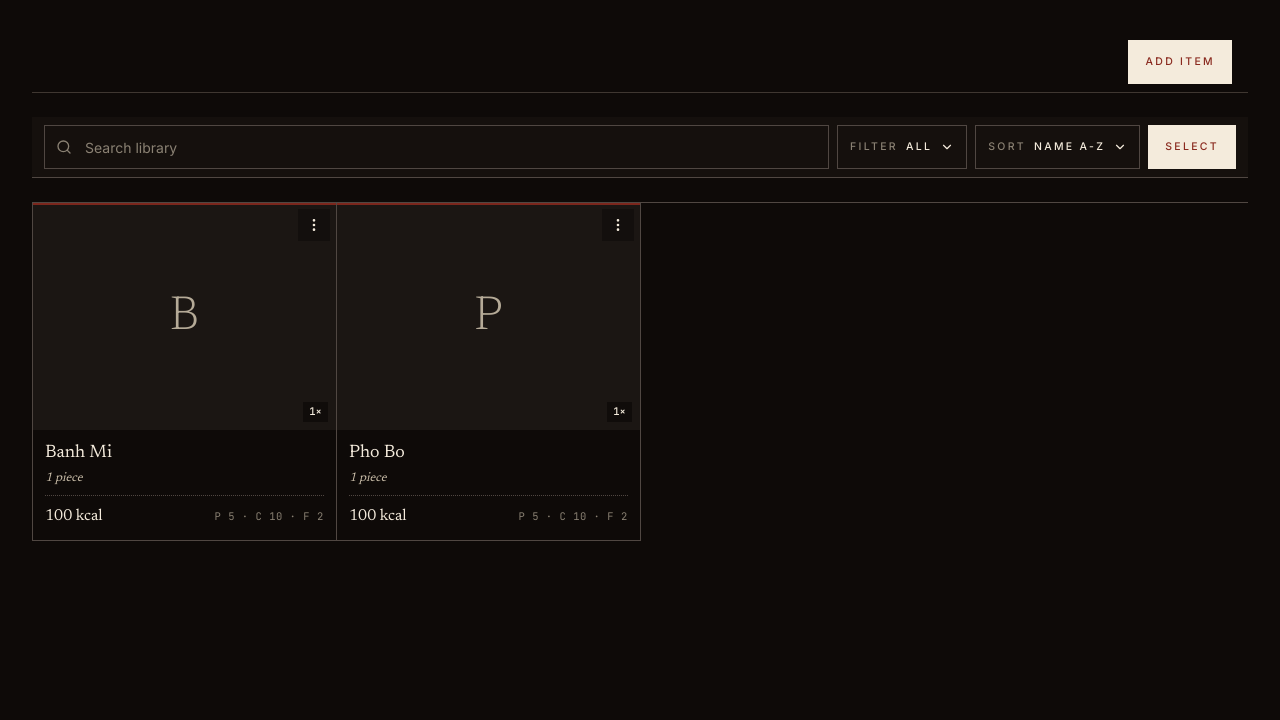
Test: <LibraryClient /> quick-action menu wiring (Bug 3) › bulk-log actions expose busy state while selected items are being logged
The width and height of the screenshot is (1280, 720).
Click the button with test id "library-select-toggle".
click(1192, 147)  # box [1148, 125, 1236, 169]
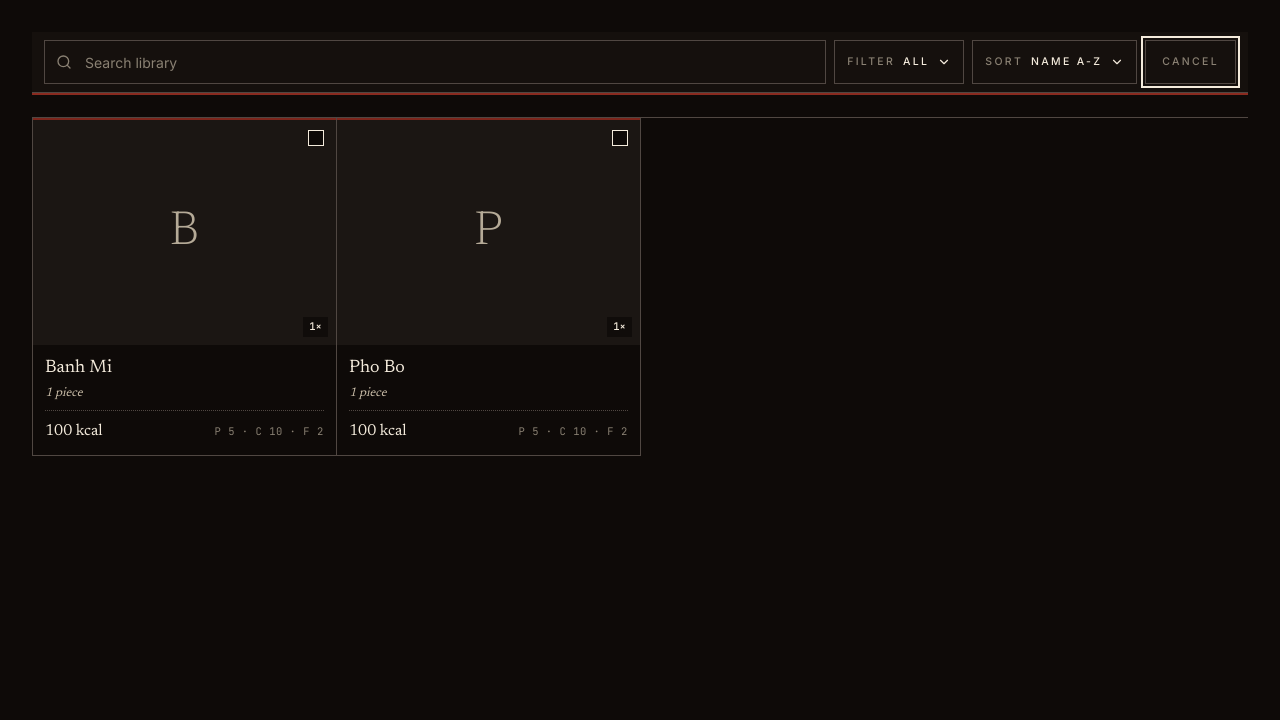
Click the checkbox with test id "library-card-alpha".
click(488, 287)  # box [337, 118, 640, 455]
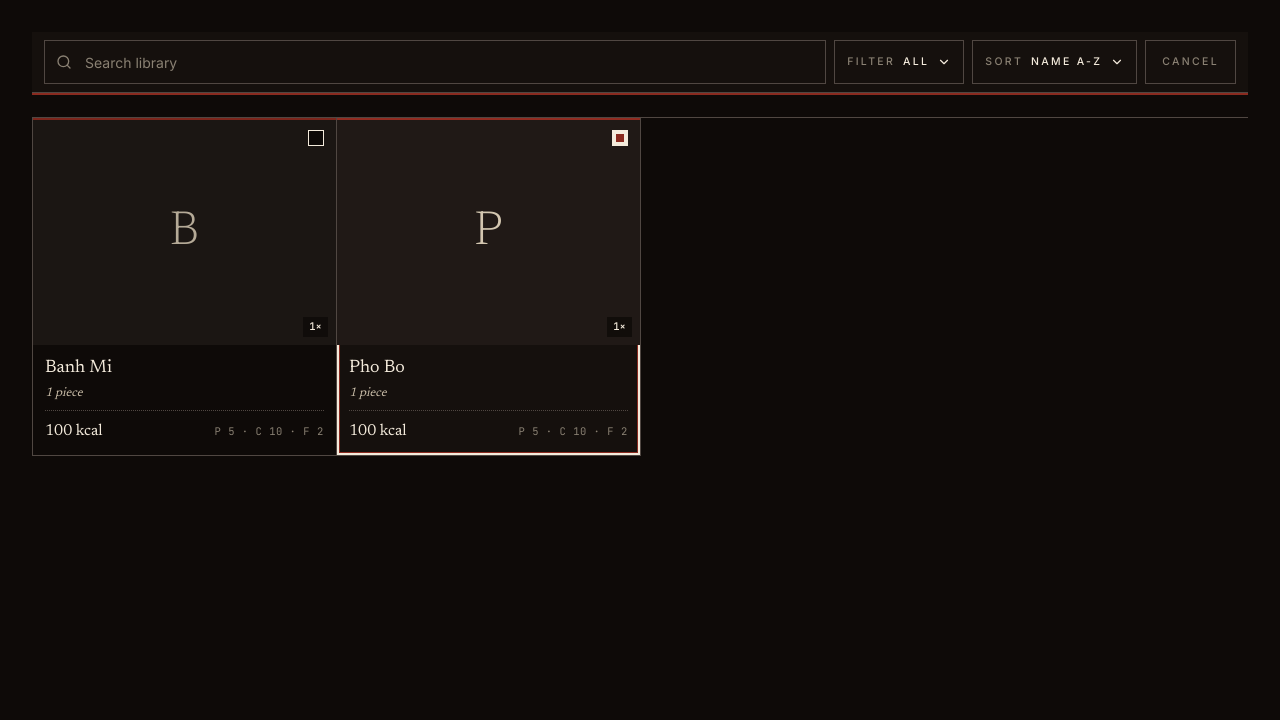
Click the checkbox with test id "library-card-beta".
click(184, 287)  # box [33, 118, 336, 455]
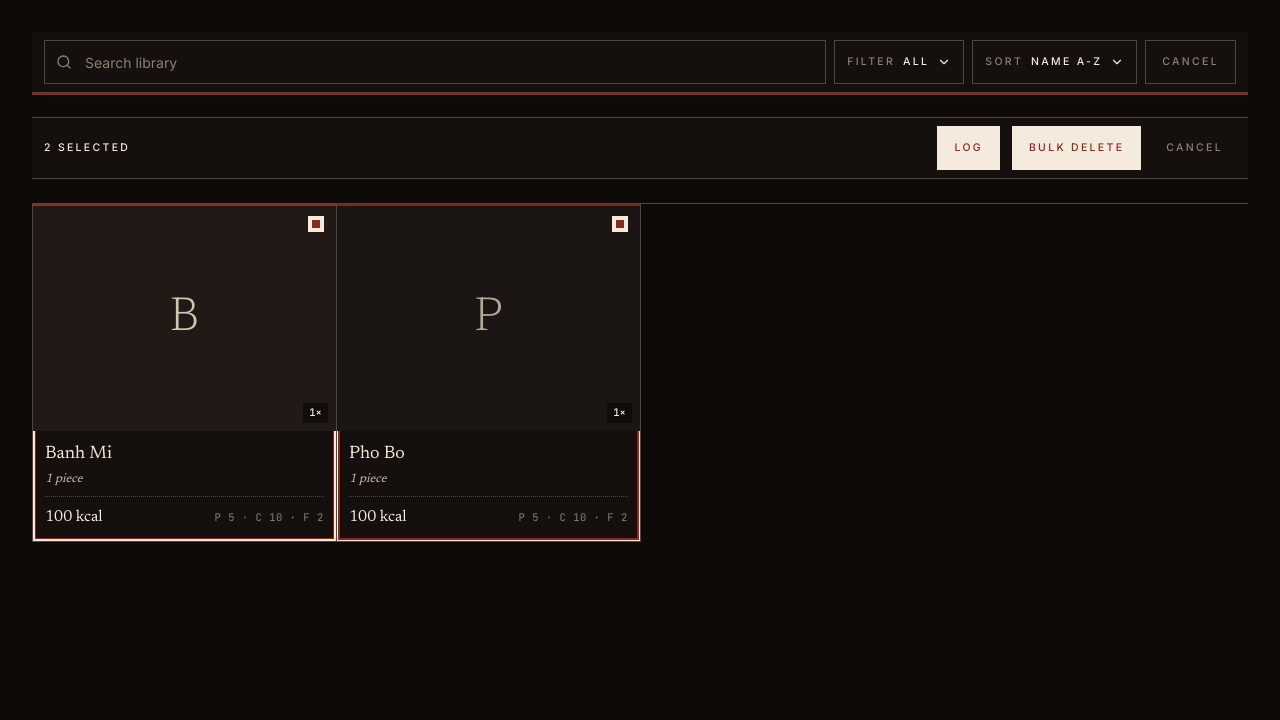
Click the button with test id "library-bulk-log-button".
click(969, 148)  # box [937, 126, 1000, 170]
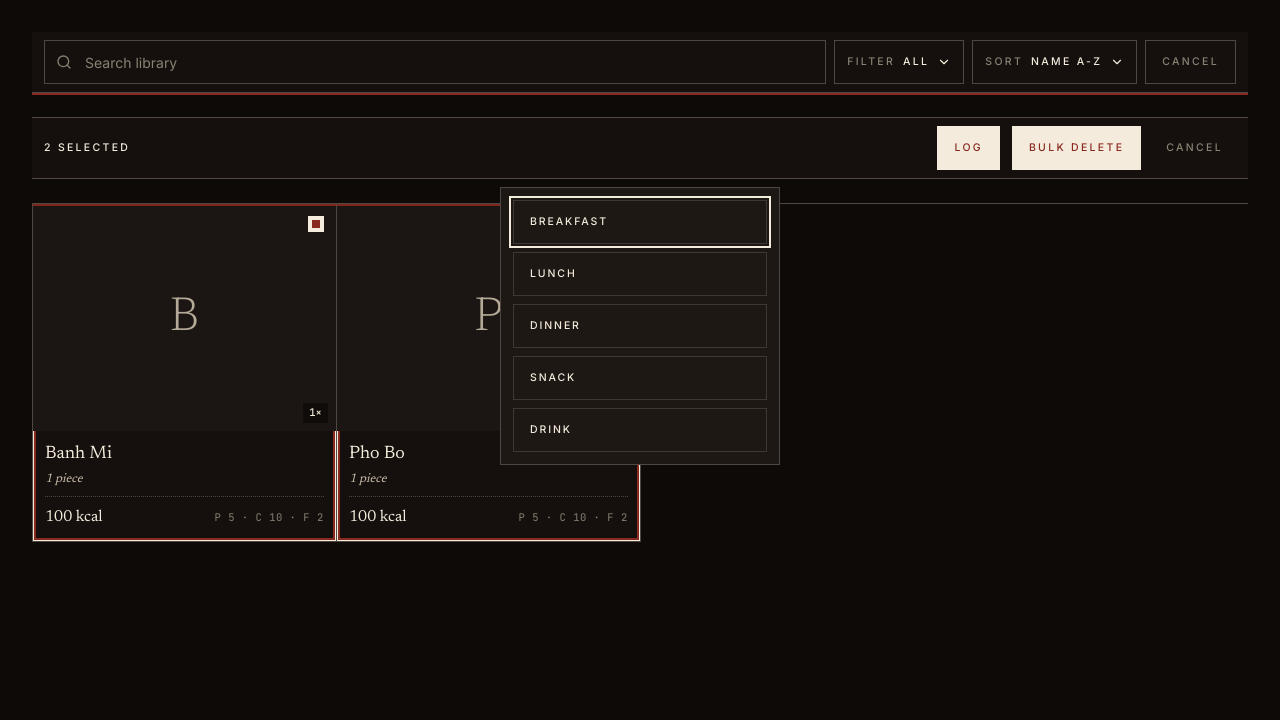
Click the button with test id "library-bulk-log-meal-lunch".
click(640, 274)  # box [513, 252, 767, 296]
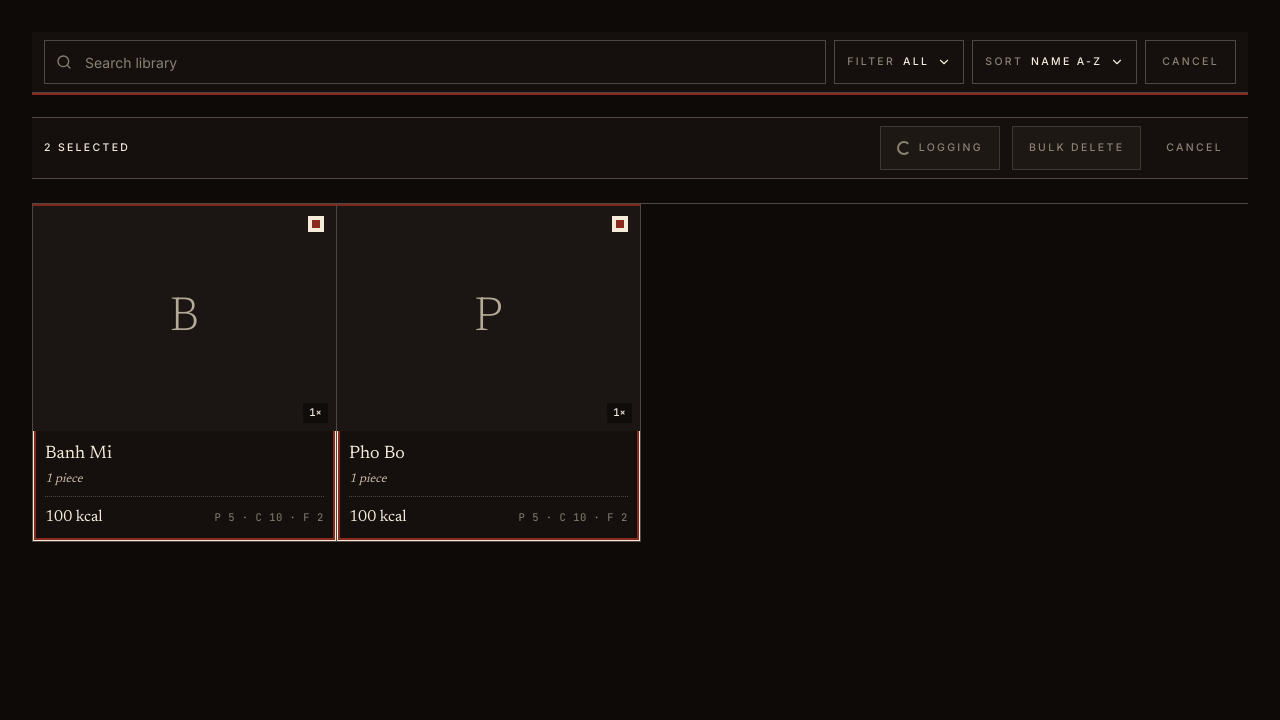
Check: the button with test id "library-bulk-log-button" reads "LOGGING", box [880, 126, 1000, 170]
Check: the button with test id "library-bulk-delete-button" is disabled, box [1012, 126, 1141, 170]
